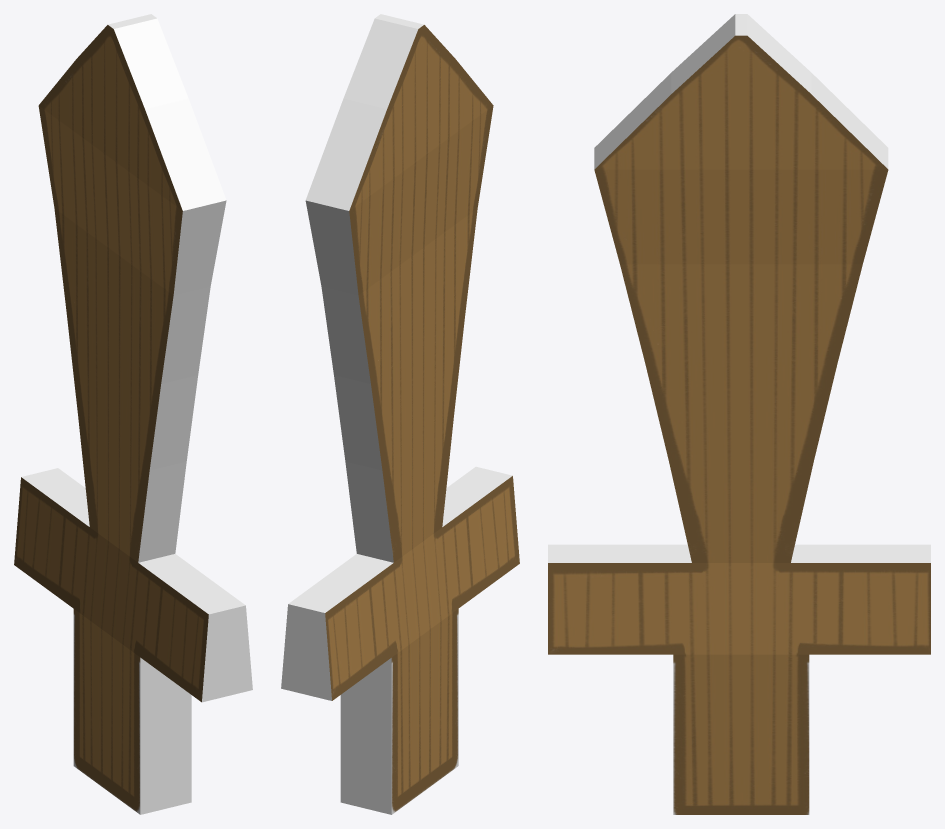
Rendered from Sword.glb.
3 renders of one model, left to right at view 1: azimuth 30°, elevation 25°; view 2: azimuth 150°, elevation 25°; view 3: azimuth 270°, elevation 25°, orthographic.
Parts seen in each view (by area): view 1: Cube; view 2: Cube; view 3: Cube.
Part boxes in pixels (x1,y1,x2,y2): Cube: [14, 14, 252, 814]; Cube: [281, 14, 519, 814]; Cube: [548, 14, 930, 814].
Size of the model in its own units: 0.2713 by 3.87 by 1.73.
1 material, 1 textured.
